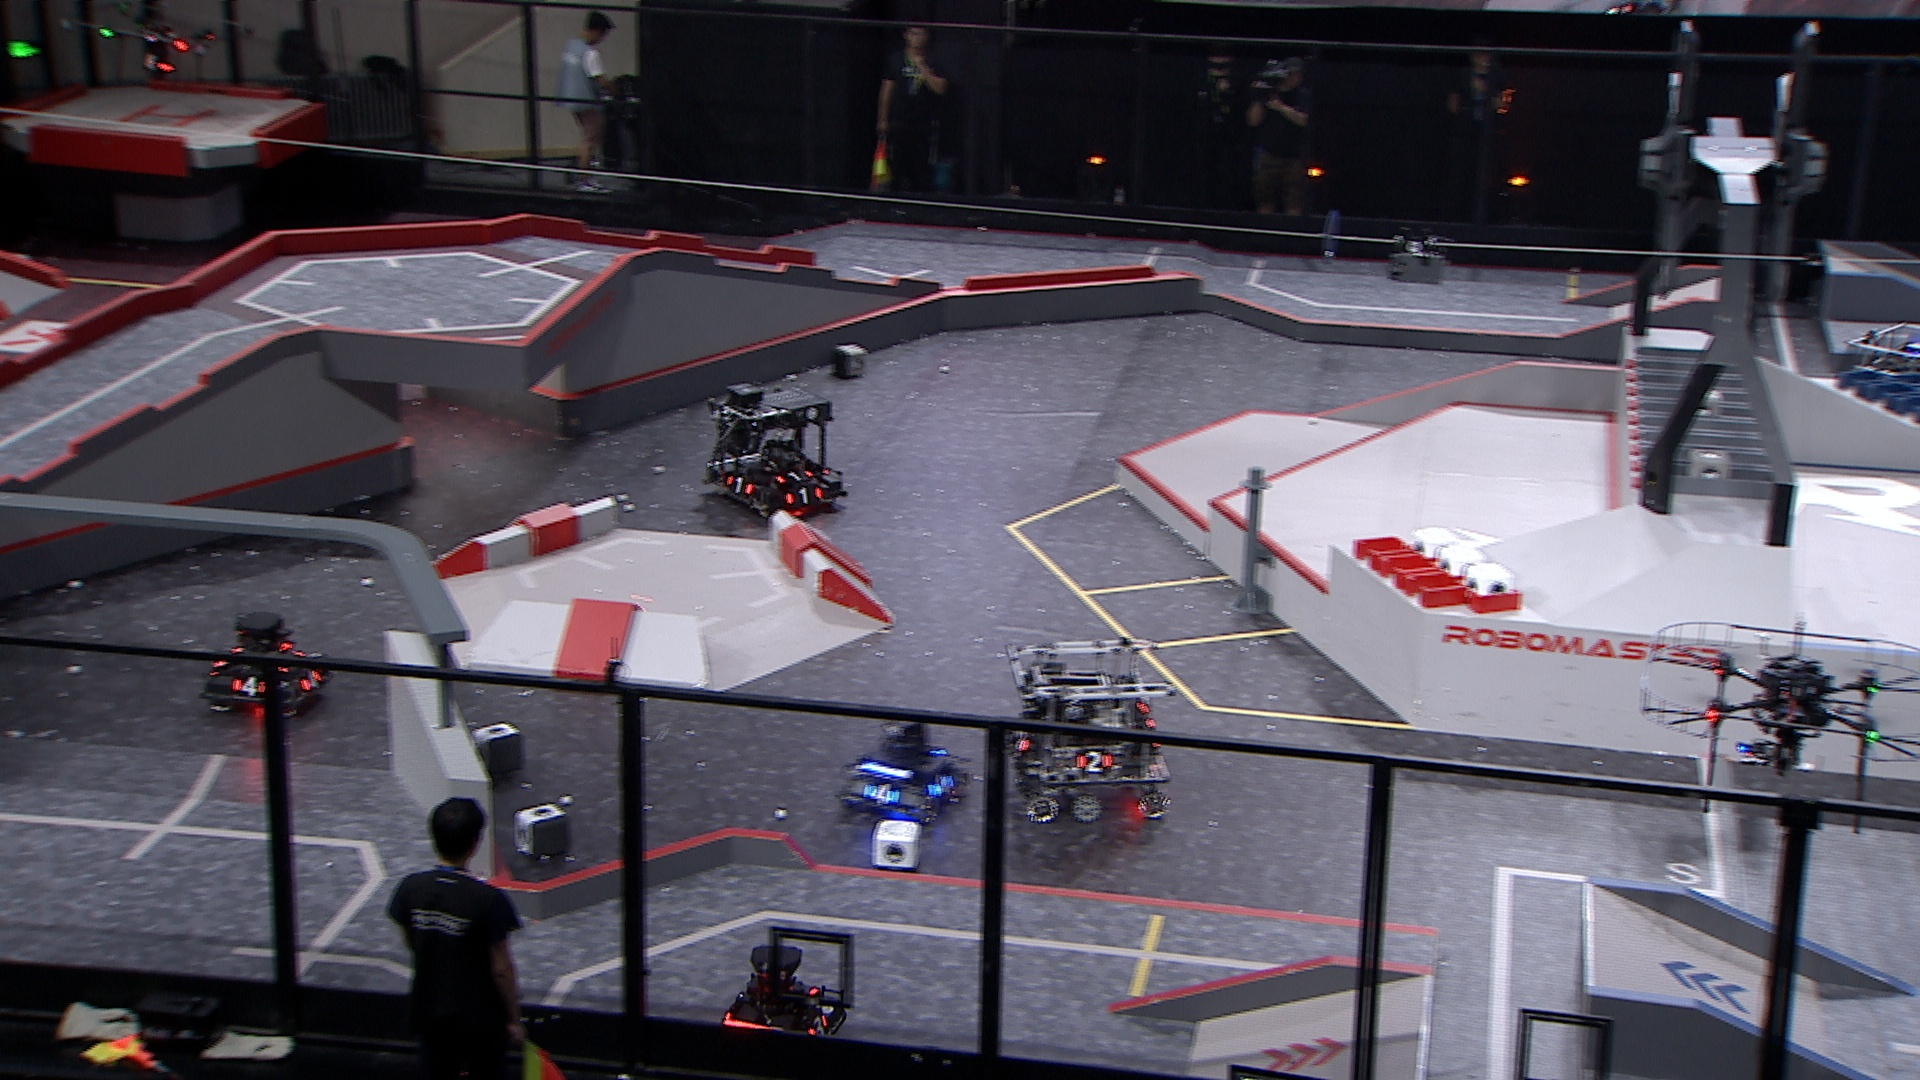armor: (1073, 749, 1116, 775), (865, 781, 902, 808), (228, 676, 266, 699), (723, 475, 754, 498), (773, 469, 816, 487), (785, 488, 822, 508), (807, 1014, 835, 1039), (1011, 731, 1035, 757), (927, 774, 955, 796), (297, 669, 320, 694)
car: (1004, 632, 1182, 831), (702, 381, 847, 520), (833, 713, 971, 832), (199, 609, 338, 721), (717, 944, 847, 1055), (1842, 319, 1920, 436)
